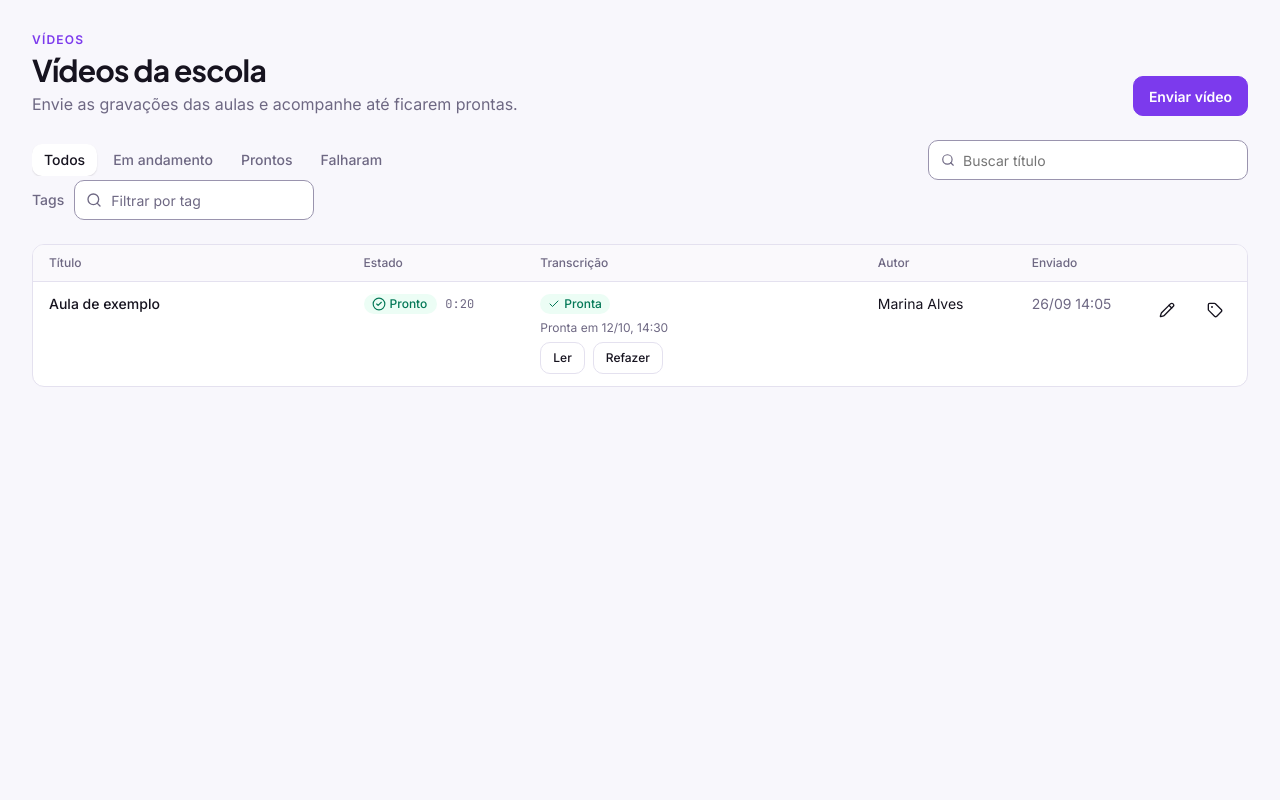
Test: video-transcription-reader › opens current text with timestamps as a read-only accessible region and renders HTML literally
This screenshot has width=1280, height=800.
Click the button with aria-label "Ler transcrição de Aula de exemplo" at x=563, y=358, box top-left (540, 342), bottom-right (585, 374)
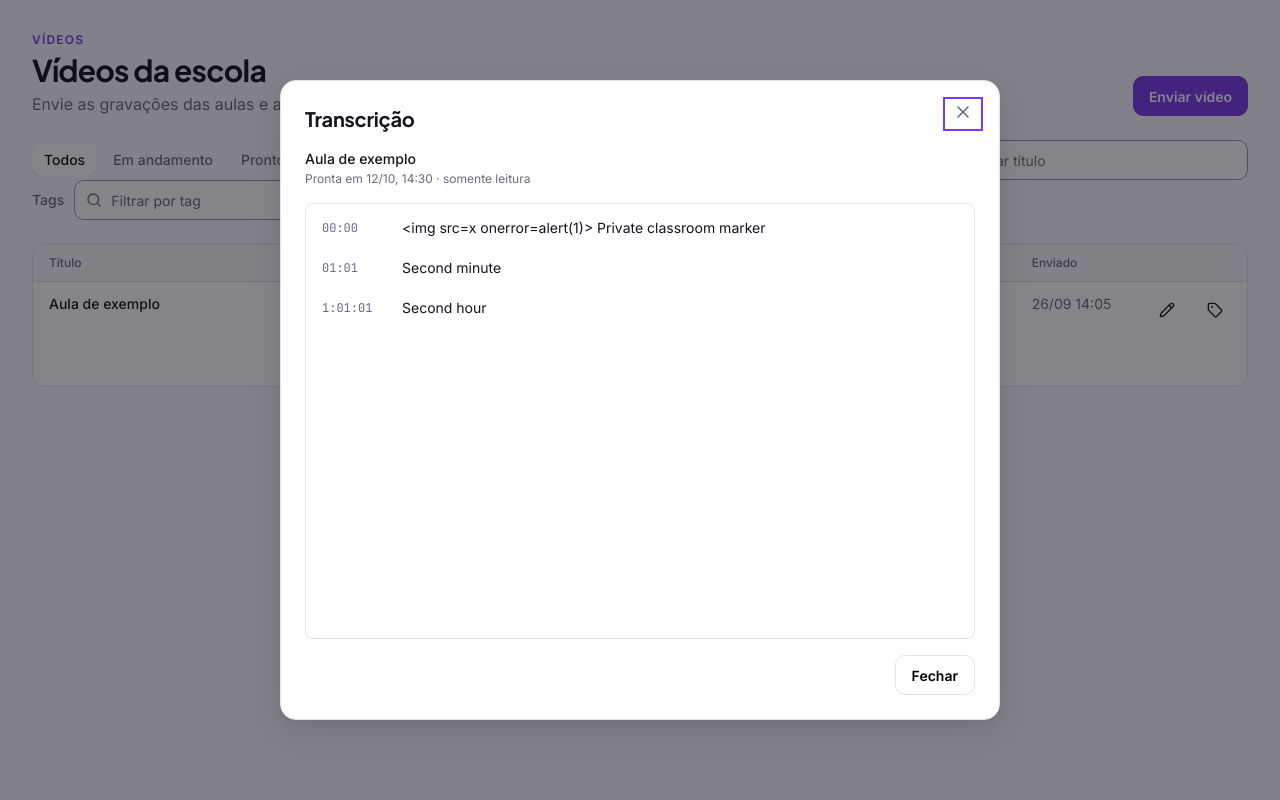
Result: the text "<img src=x onerror=alert(1)> Private classroom marker" is shown at top-left (402, 219), bottom-right (766, 236)
Result: the text "00:00" is shown at top-left (322, 220), bottom-right (358, 236)
Result: the text "01:01" is shown at top-left (322, 260), bottom-right (358, 276)
